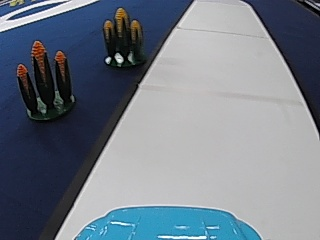corn: (17, 40, 77, 121), (100, 4, 146, 67)
